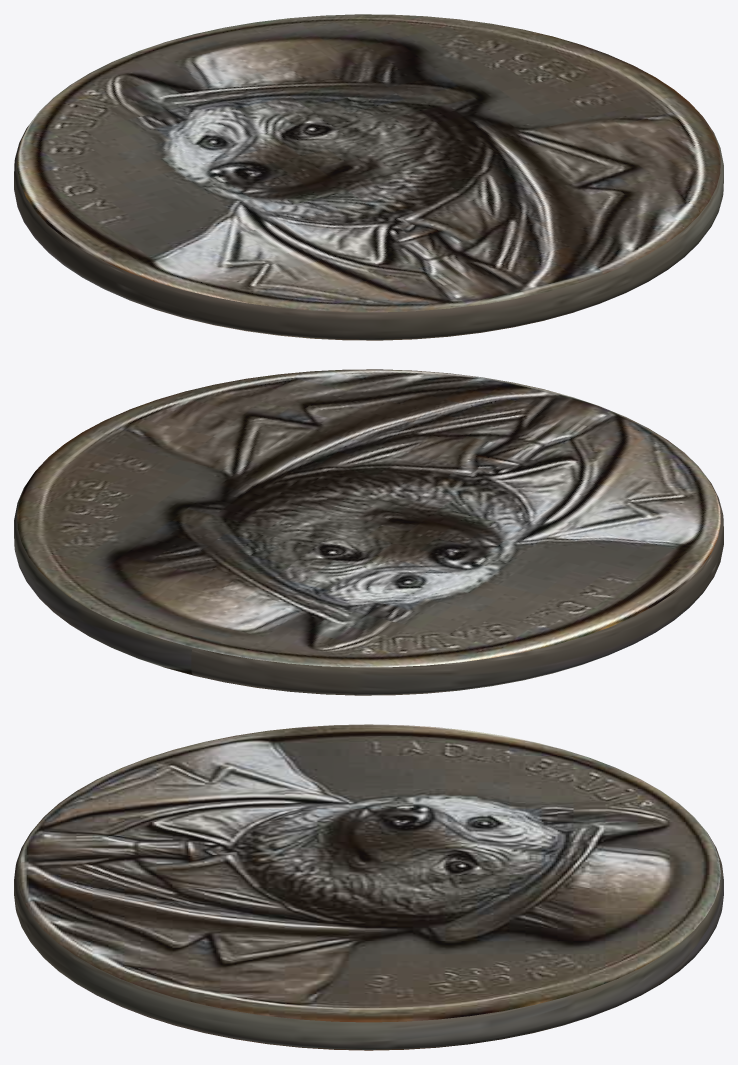
The model's file is coin-small-nm.glb.
3 views of the same model, one above another, from view 1: azimuth 30°, elevation 25°; view 2: azimuth 150°, elevation 25°; view 3: azimuth 270°, elevation 25° (orthographic).
Visible parts, largest first — view 1: Cylinder; view 2: Cylinder; view 3: Cylinder.
Boxes of the visible parts, left/top/right/bottom form: Cylinder: left=14, top=14, right=723, bottom=340; Cylinder: left=14, top=369, right=723, bottom=695; Cylinder: left=14, top=724, right=723, bottom=1050.
Bounding box in the file's own units: 2 × 0.1032 × 2.
Materials: 1 (1 with a texture image).
